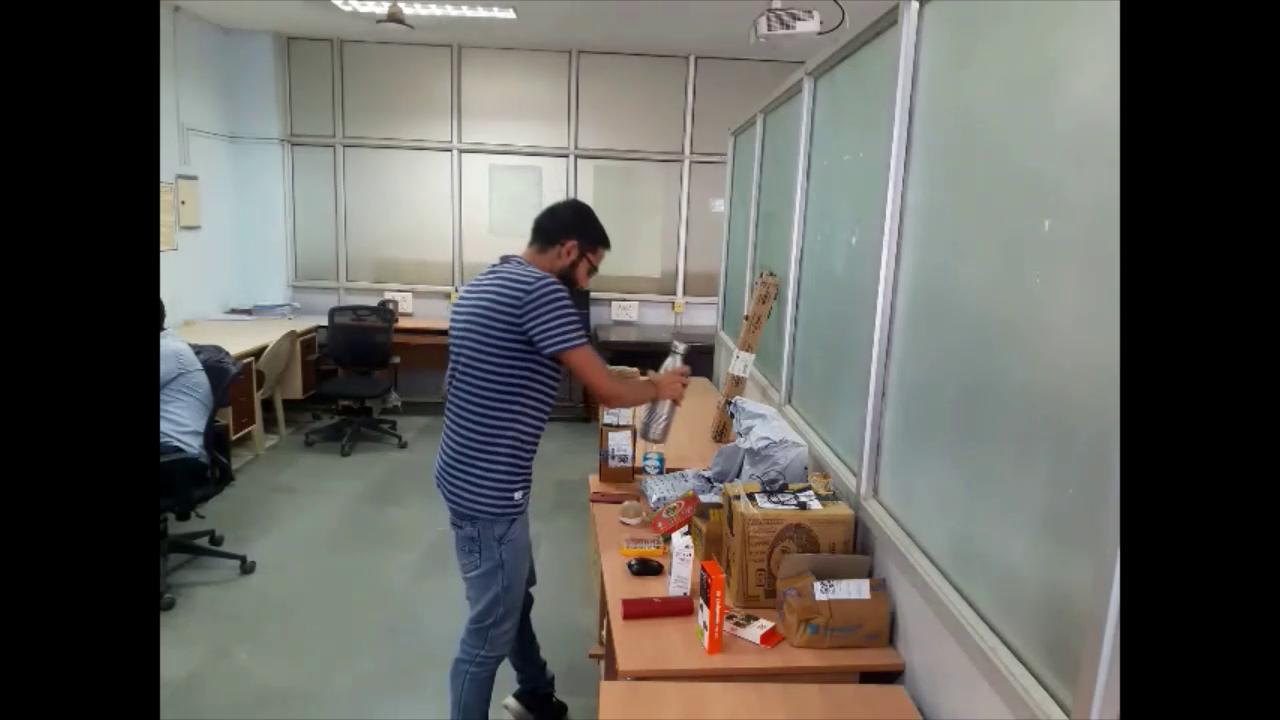Normal: (431, 197, 697, 720)
